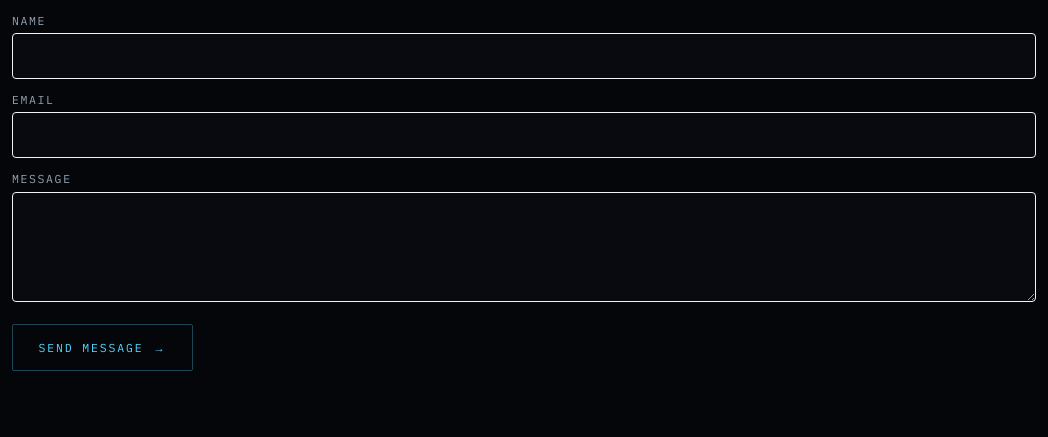
Test case: ContactForm › validates email client-side and announces the error
Type "bad" into the field labelled "EMAIL". click: (524, 136)
box: [12,112,1036,158]
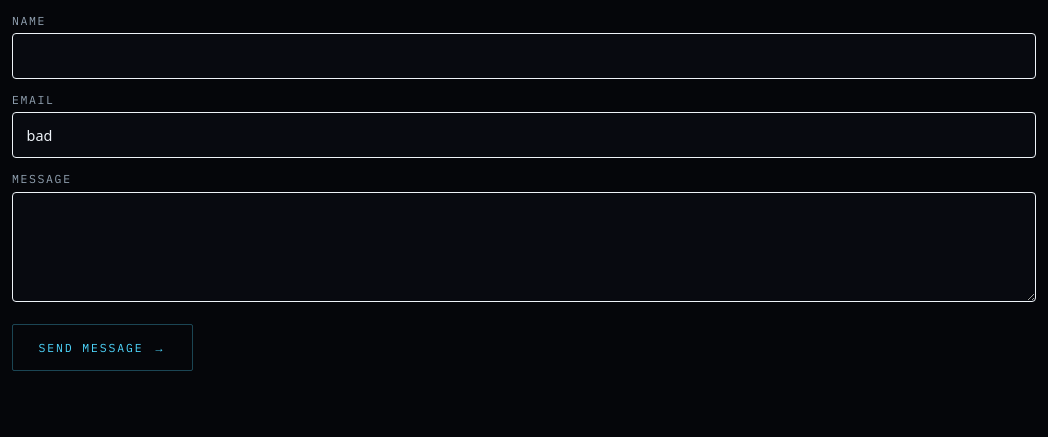
Type "Jane" into the field labelled "NAME". click: (524, 56)
box: [12,33,1036,79]
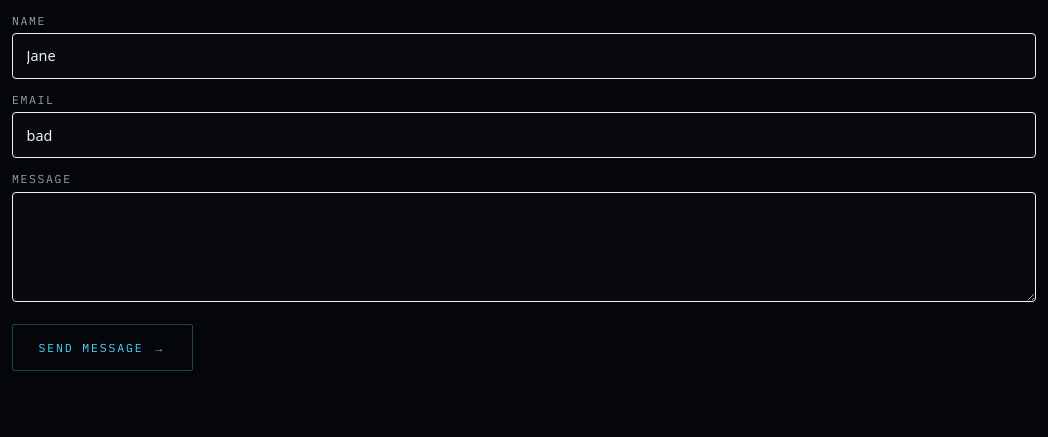
Type "A real message here." into the text box labelled "MESSAGE". click: (524, 247)
box: [12,192,1036,302]
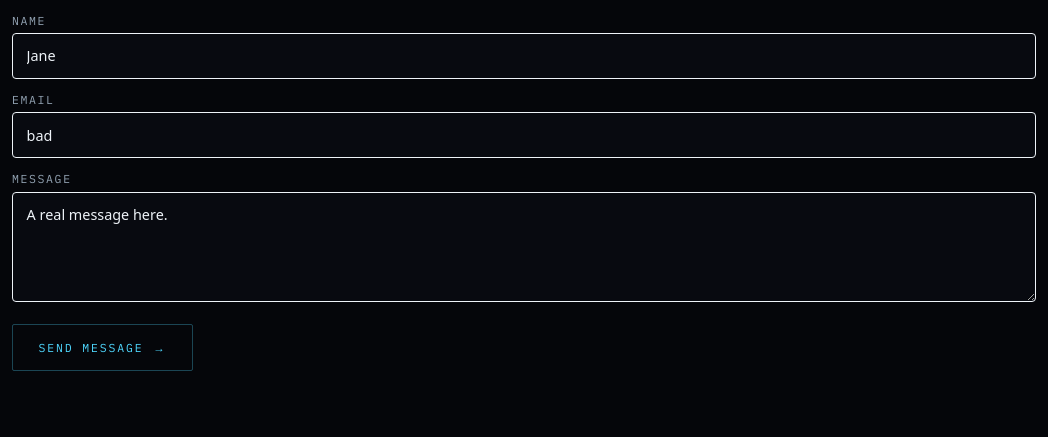
Click the button "SEND MESSAGE →". click: click(103, 348)
box: [12,324,193,371]
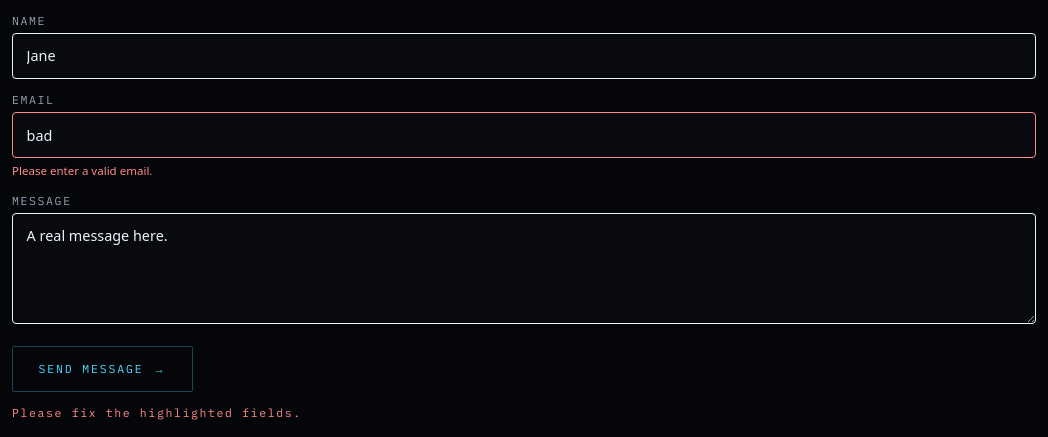
Expected: the message shows "valid email", [12,163,152,178]
